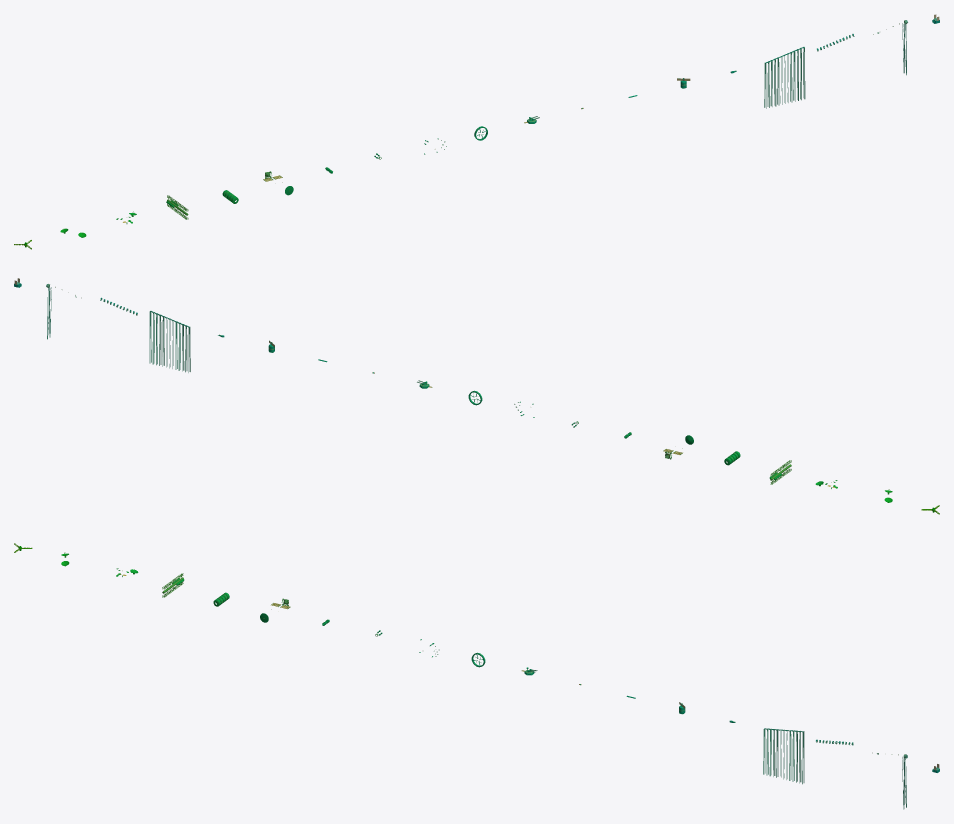
File: megas-Bnzl9EjO.glb
3 views of the same model, one above another, from view 1: azimuth 30°, elevation 25°; view 2: azimuth 150°, elevation 25°; view 3: azimuth 330°, elevation 25° (orthographic).
Visible parts, largest first — view 1: megas; view 2: megas; view 3: megas.
Boxes of the visible parts, bbox=[...] form: megas: bbox=[14, 14, 939, 249]; megas: bbox=[14, 278, 939, 514]; megas: bbox=[14, 543, 939, 809].
Size of the model in its own units: 109 by 6.12 by 4.61.
